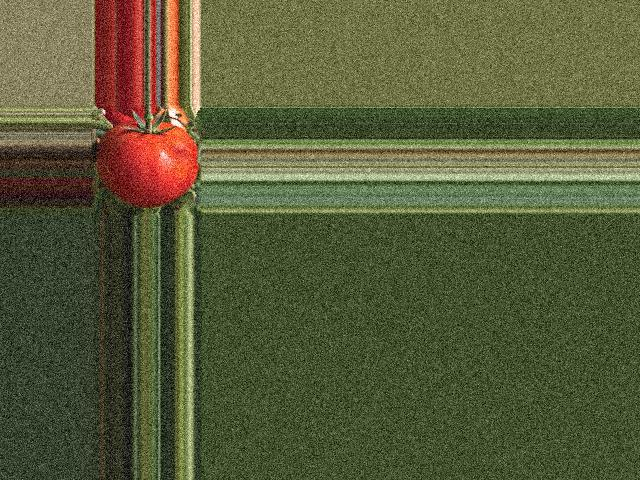tomato: (97, 120, 198, 207)
